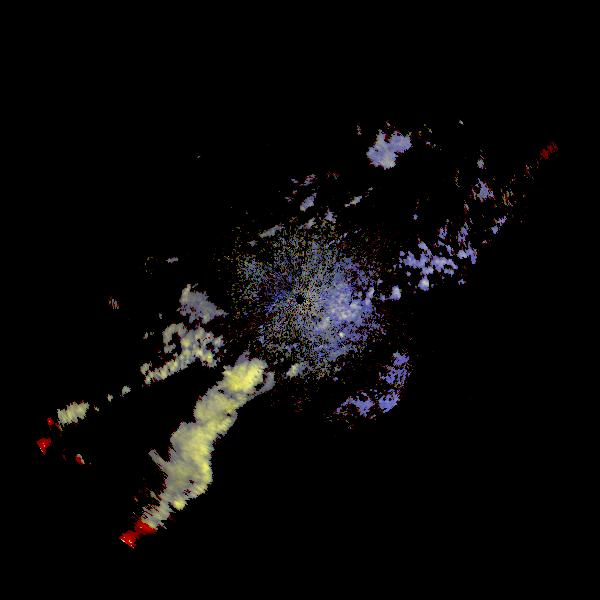roost: (207, 233, 444, 470)
